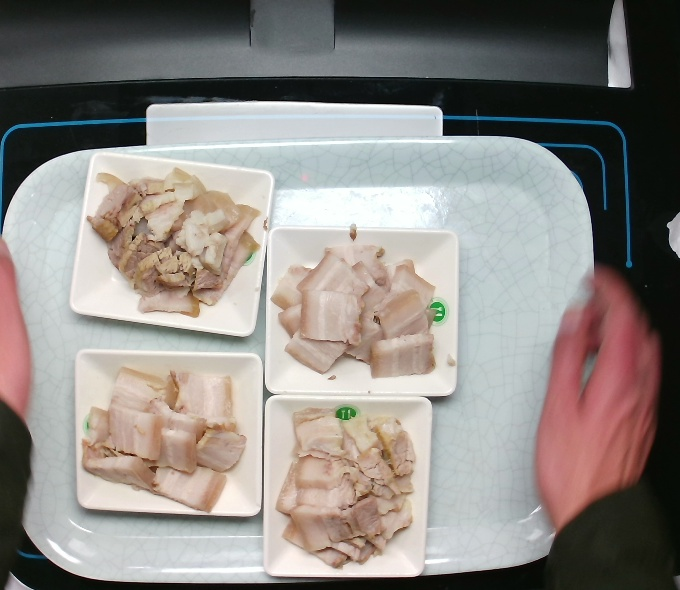wcq-BaiQieRou: (265, 399, 424, 559), (88, 348, 247, 508), (280, 226, 439, 386), (90, 163, 249, 323)
